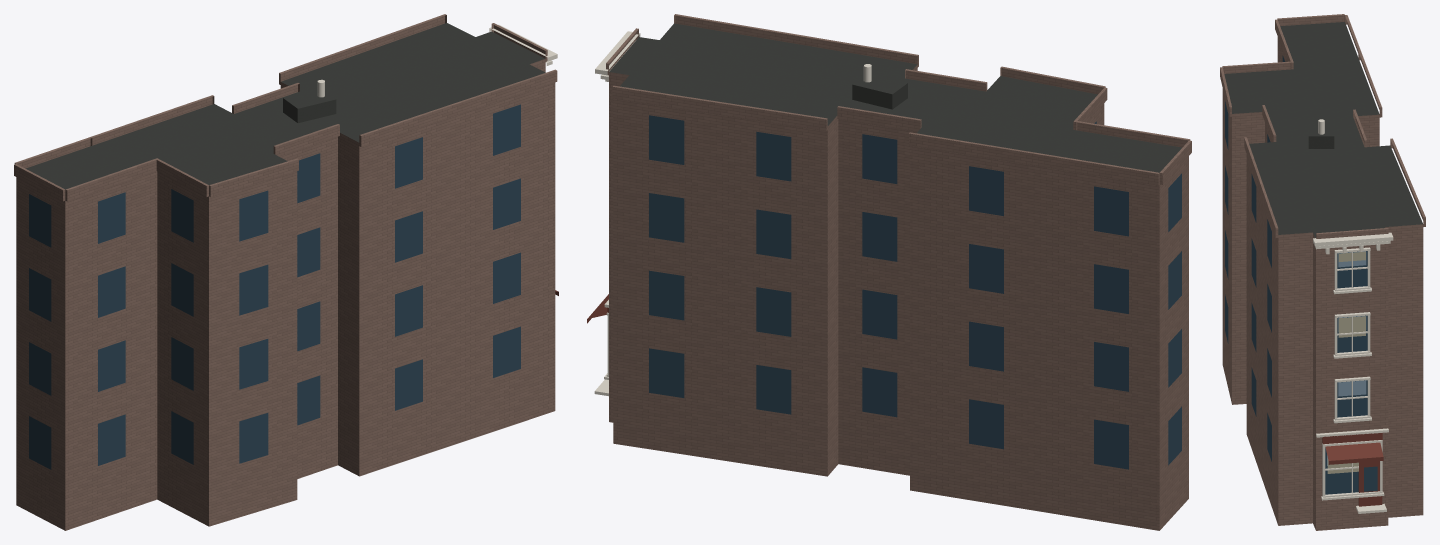
3 renders of one model, left to right at view 1: azimuth 30°, elevation 25°; view 2: azimuth 150°, elevation 25°; view 3: azimuth 270°, elevation 25°, orthographic. The views are drawn at different scales.
Visible parts, largest first — view 1: Footprint 0 / surface 2, Inset glazing, Footprint 0 / surface 1, Facade bay volumes; view 2: Footprint 0 / surface 2, Inset glazing, Footprint 0 / surface 1, Facade bay volumes, Cornices and window frames; view 3: Footprint 0 / surface 2, Footprint 0 / surface 1, Inset glazing, Cornices and window frames, Facade bay volumes, Storefronts and doors, Interior blind variation, Sky reflection panels, Inferred rooftop service enclosure / surface 3, Inferred rooftop service enclosure / surface 1.
Boxes of the visible parts, x1=… form: Footprint 0 / surface 2: x1=16, y1=59, x2=555, y2=530; Inset glazing: x1=29, y1=104, x2=520, y2=469; Footprint 0 / surface 1: x1=25, y1=23, x2=545, y2=189; Facade bay volumes: x1=14, y1=14, x2=557, y2=201; Footprint 0 / surface 2: x1=609, y1=65, x2=1188, y2=530; Inset glazing: x1=649, y1=115, x2=1181, y2=469; Footprint 0 / surface 1: x1=609, y1=23, x2=1181, y2=172; Facade bay volumes: x1=606, y1=14, x2=1191, y2=185; Cornices and window frames: x1=594, y1=31, x2=640, y2=396; Footprint 0 / surface 2: x1=1222, y1=37, x2=1423, y2=530; Footprint 0 / surface 1: x1=1224, y1=22, x2=1422, y2=237; Inset glazing: x1=1225, y1=55, x2=1377, y2=494; Cornices and window frames: x1=1313, y1=232, x2=1393, y2=513; Facade bay volumes: x1=1220, y1=14, x2=1425, y2=238; Storefronts and doors: x1=1322, y1=433, x2=1383, y2=506; Interior blind variation: x1=1327, y1=251, x2=1365, y2=473; Sky reflection panels: x1=1327, y1=251, x2=1366, y2=465; Inferred rooftop service enclosure / surface 3: x1=1308, y1=120, x2=1334, y2=136; Inferred rooftop service enclosure / surface 1: x1=1308, y1=136, x2=1334, y2=148.
Bounding box in the file's own units: 25.13 × 16.26 × 9.58.
